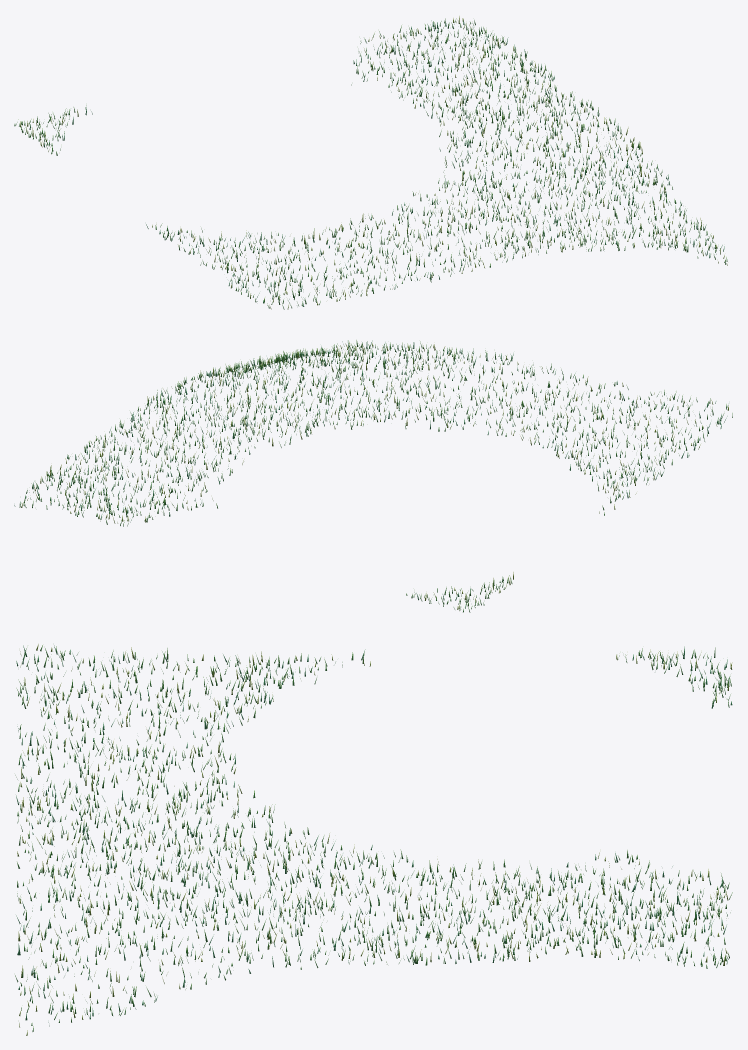
3 views of the same model, one above another, from view 1: azimuth 30°, elevation 25°; view 2: azimuth 150°, elevation 25°; view 3: azimuth 270°, elevation 25° (orthographic). The views are drawn at different scales.
Parts seen in each view (by area): view 1: gc_2; view 2: gc_2; view 3: gc_2.
Part boxes in pixels (<box>): gc_2: <box>14,16,727,309</box>; gc_2: <box>14,340,732,612</box>; gc_2: <box>15,644,732,1035</box>.
Bounding box in the file's own units: 18.21 × 2.72 × 18.15.
1 material, 1 textured.
